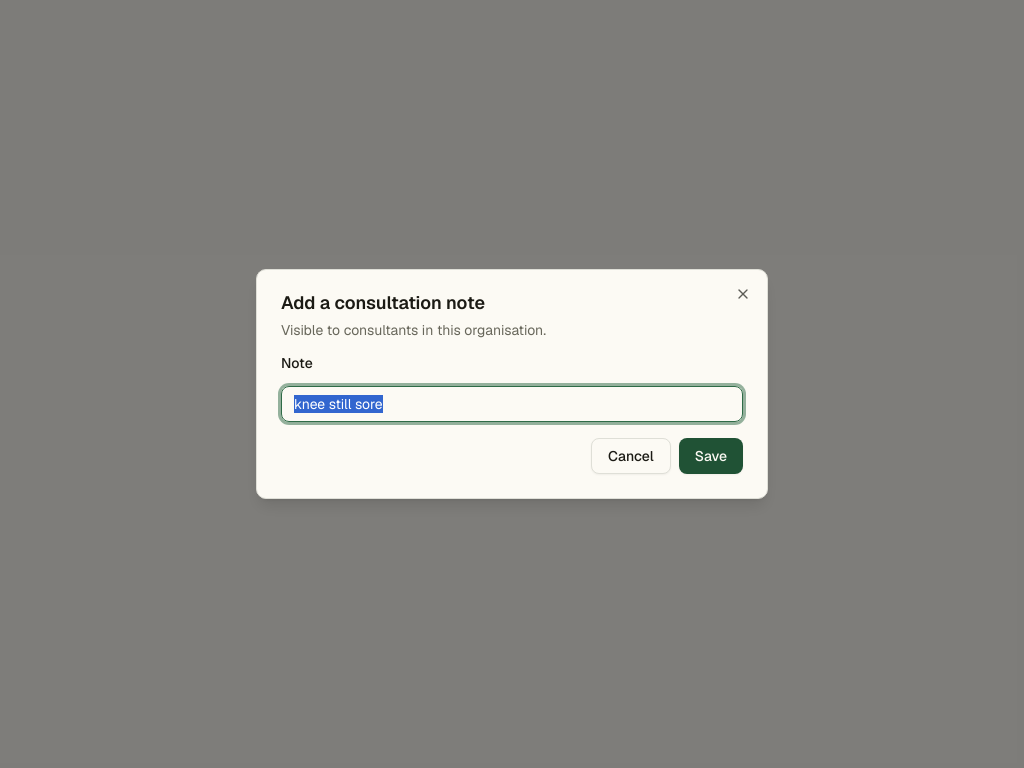
FormDialog — failure › re-enables the actions so the user can retry
The width and height of the screenshot is (1024, 768).
Click the button "Save".
click(711, 456)  # box [679,438,743,474]
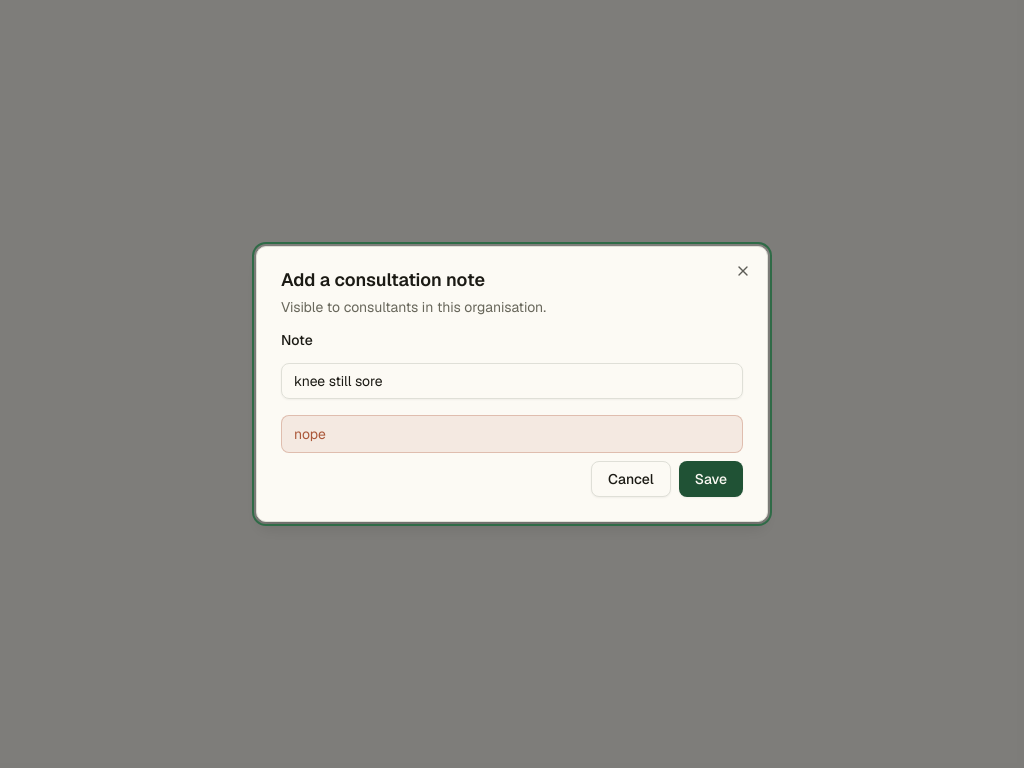
Expected: the button "Save" is enabled, [679,461,743,497]
Expected: the message "nope" is shown, [281,415,743,453]
